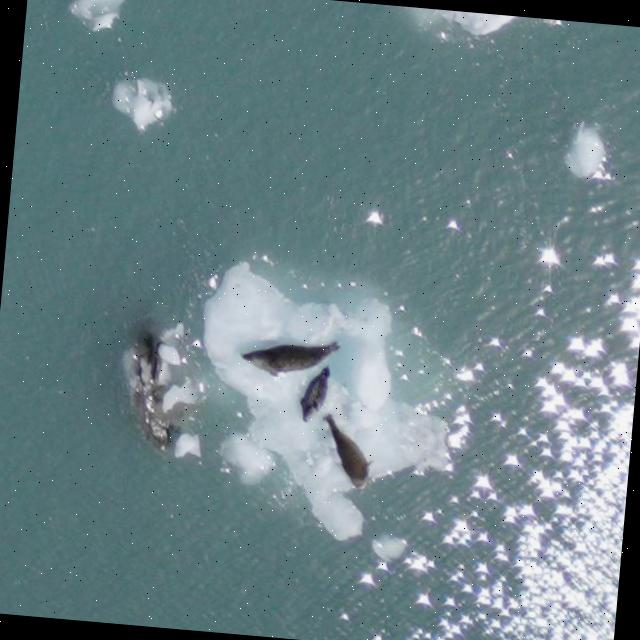seal: (241, 329, 341, 383), (323, 406, 374, 490), (293, 361, 335, 426)
